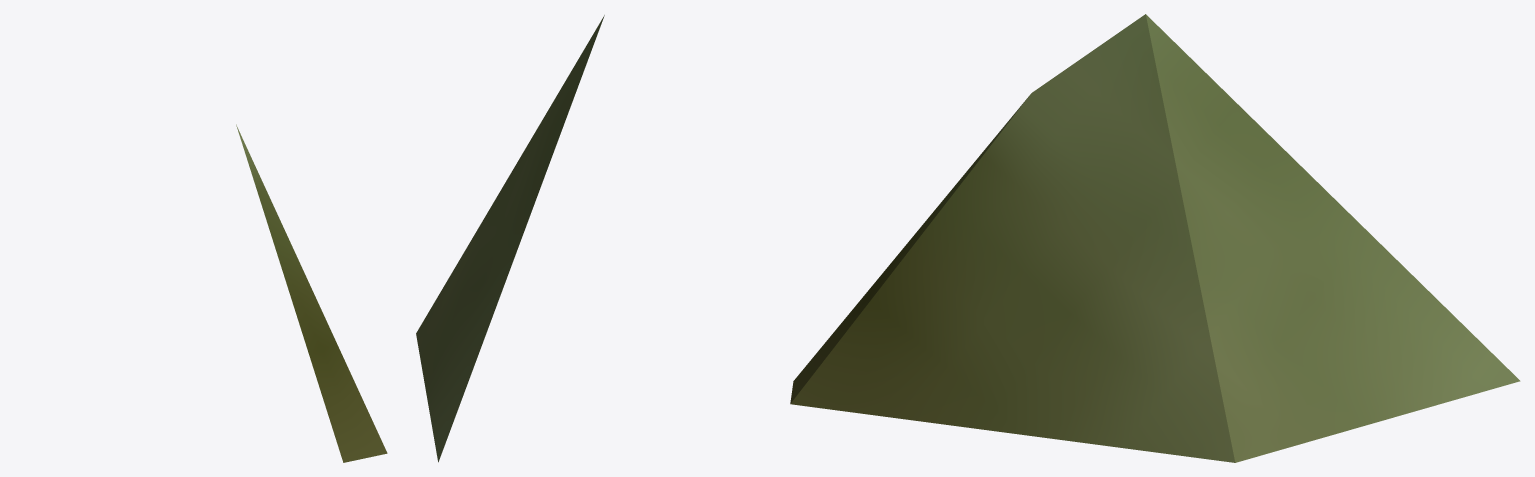
The picture shows the model from 3 angles, left to right: view 1: azimuth 30°, elevation 25°; view 2: azimuth 150°, elevation 25°; view 3: azimuth 270°, elevation 25°; orthographic projection. The views are drawn at different scales.
Bounding box in the file's own units: 0.035 × 0.0731 × 0.1319.
1 material, 1 textured.
